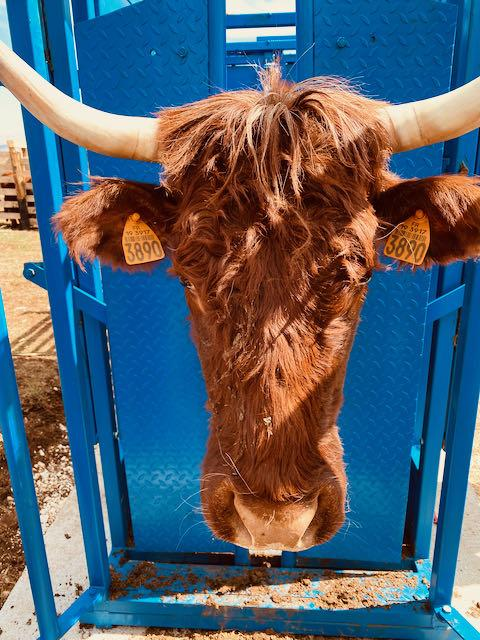muzzles: (194, 481, 348, 554)
